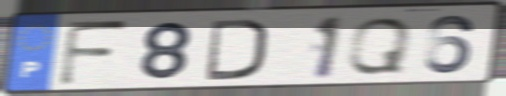1: (311, 13, 345, 80)
6: (423, 13, 476, 75)
8: (136, 19, 196, 83)
D: (204, 17, 270, 83)
F: (55, 19, 132, 88)
Q: (344, 15, 416, 77)
